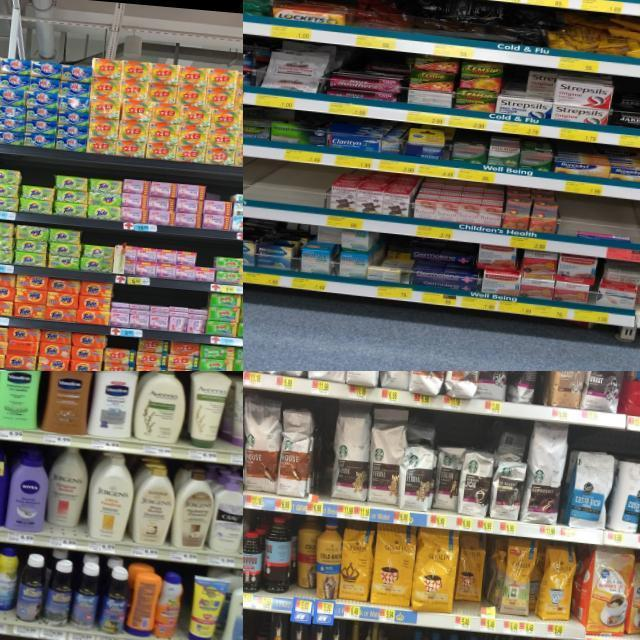empty: (243, 156, 327, 223), (558, 197, 640, 258), (314, 441, 333, 516)
